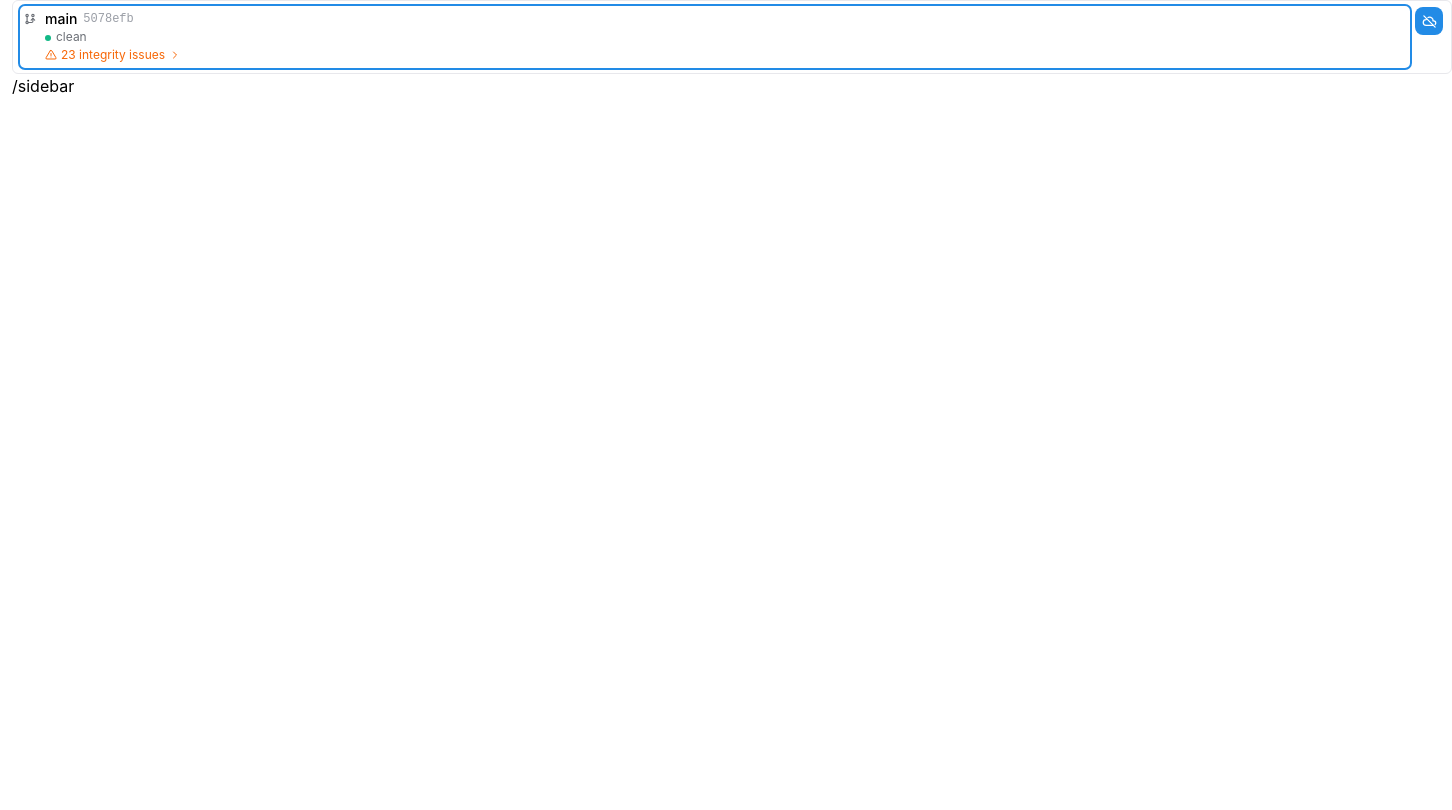
Scenario: sidebar git box (S1, S2) › shows the count on its own line and is a focusable button opening the view
Check: the element with test id "git-integrity-count" reads "23 integrity issues", box [45,47,181,62]
Click the button with test id "git-box" at point(61, 18), box [21,7,1409,67]
(page scrolled)
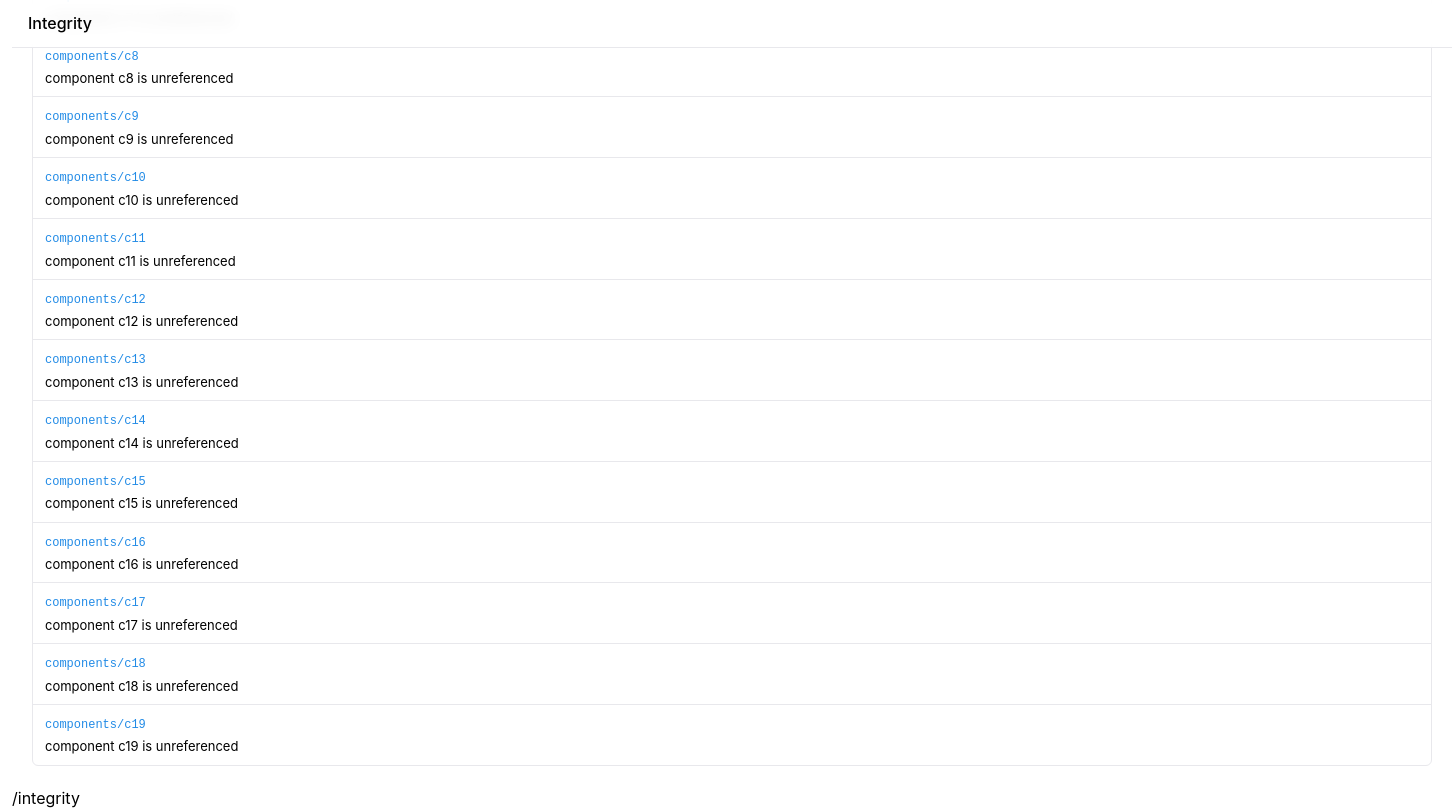
Check: the text with test id "where" reads "/integrity", box [12,788,80,808]
